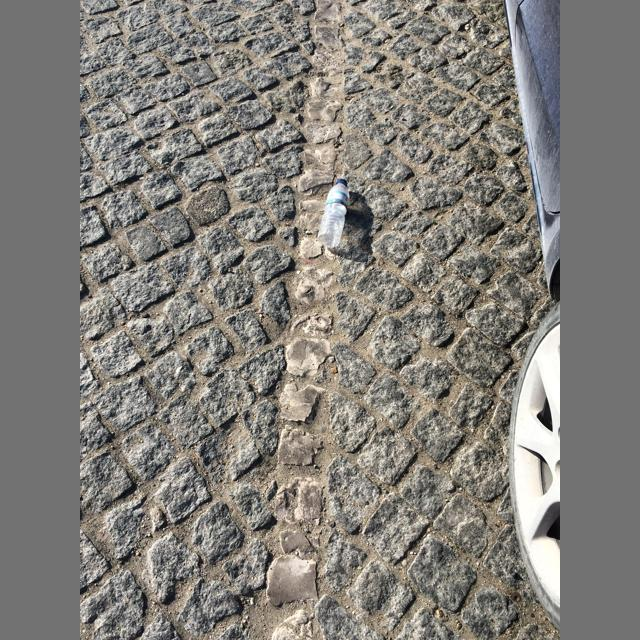litter: (317, 179, 349, 247), (337, 179, 348, 185)
